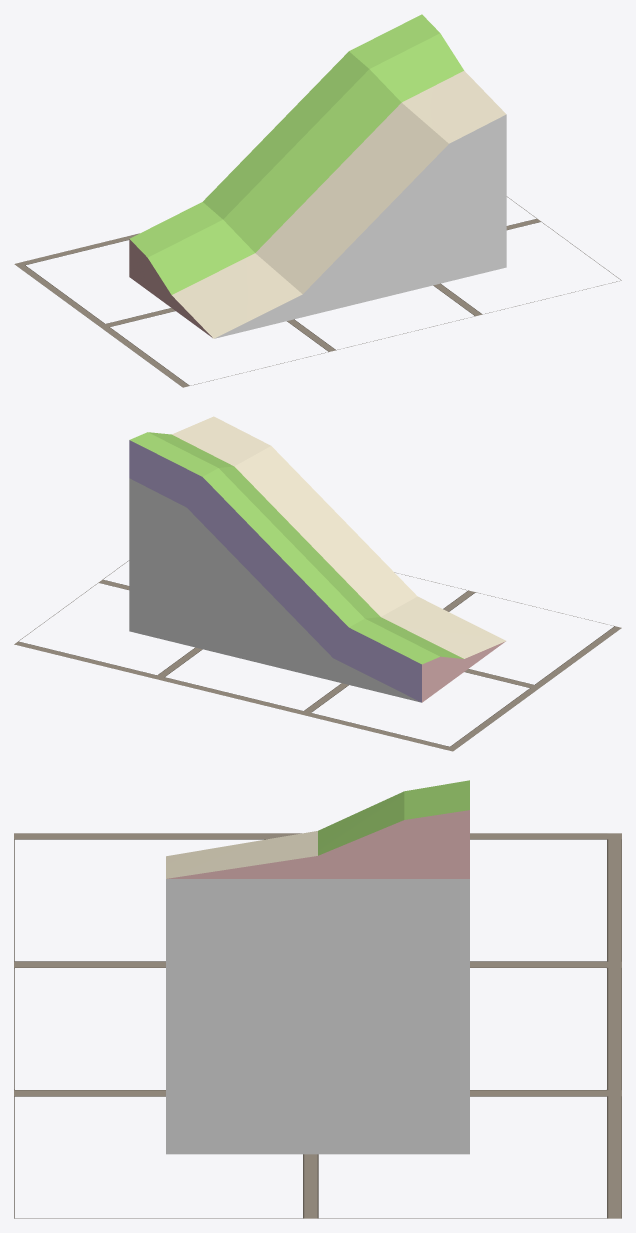
The model's file is Path_Terrain_Incline_Sharp_Edge_1x2.glb.
The picture shows the model from 3 angles, top to bottom: view 1: azimuth 30°, elevation 25°; view 2: azimuth 150°, elevation 25°; view 3: azimuth 270°, elevation 25°; orthographic projection. The views are drawn at different scales.
Visible parts, largest first — view 1: Path_Terrain_Incline_Sharp_Edge_1x2, Floor; view 2: Path_Terrain_Incline_Sharp_Edge_1x2, Floor; view 3: Path_Terrain_Incline_Sharp_Edge_1x2, Floor.
Part boxes in pixels (x1,y1,x2,y2): Path_Terrain_Incline_Sharp_Edge_1x2: (129,14,506,338); Floor: (14,196,621,387); Path_Terrain_Incline_Sharp_Edge_1x2: (129,416,505,702); Floor: (14,560,621,751); Path_Terrain_Incline_Sharp_Edge_1x2: (166,780,469,1154); Floor: (14,833,621,1218).
Size of the model in its own units: 300 by 125 by 200.
Materials: 6 (1 with a texture image).
